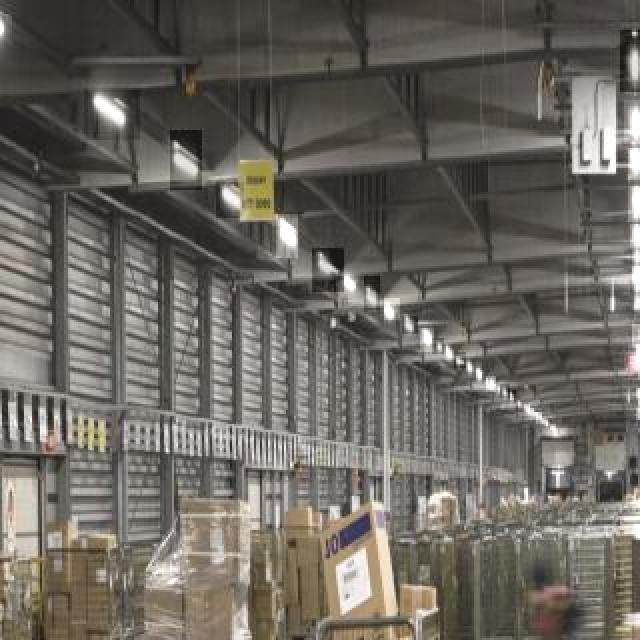fluorescent tube: (83, 85, 145, 142), (173, 127, 209, 191), (269, 218, 309, 269), (311, 240, 345, 284), (218, 180, 251, 218), (622, 40, 640, 96), (0, 4, 20, 52), (622, 120, 640, 172), (620, 174, 640, 220), (624, 90, 640, 146), (626, 218, 640, 260), (340, 269, 362, 295), (628, 212, 640, 252)
